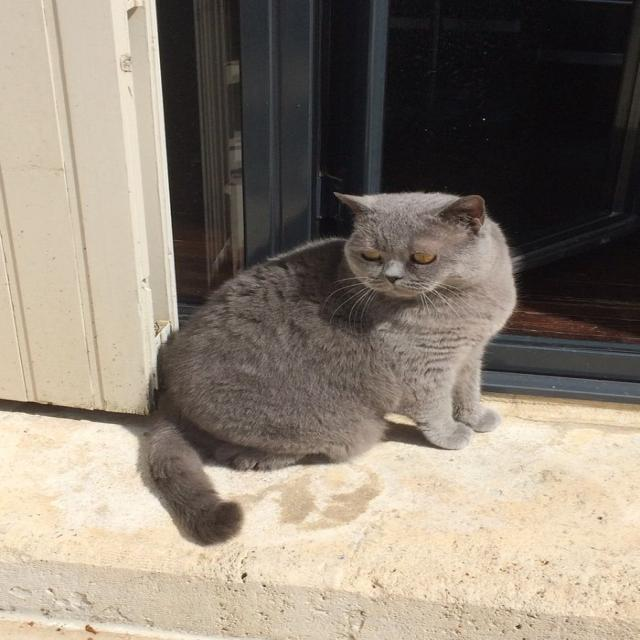sarman: (6, 106, 616, 558)
